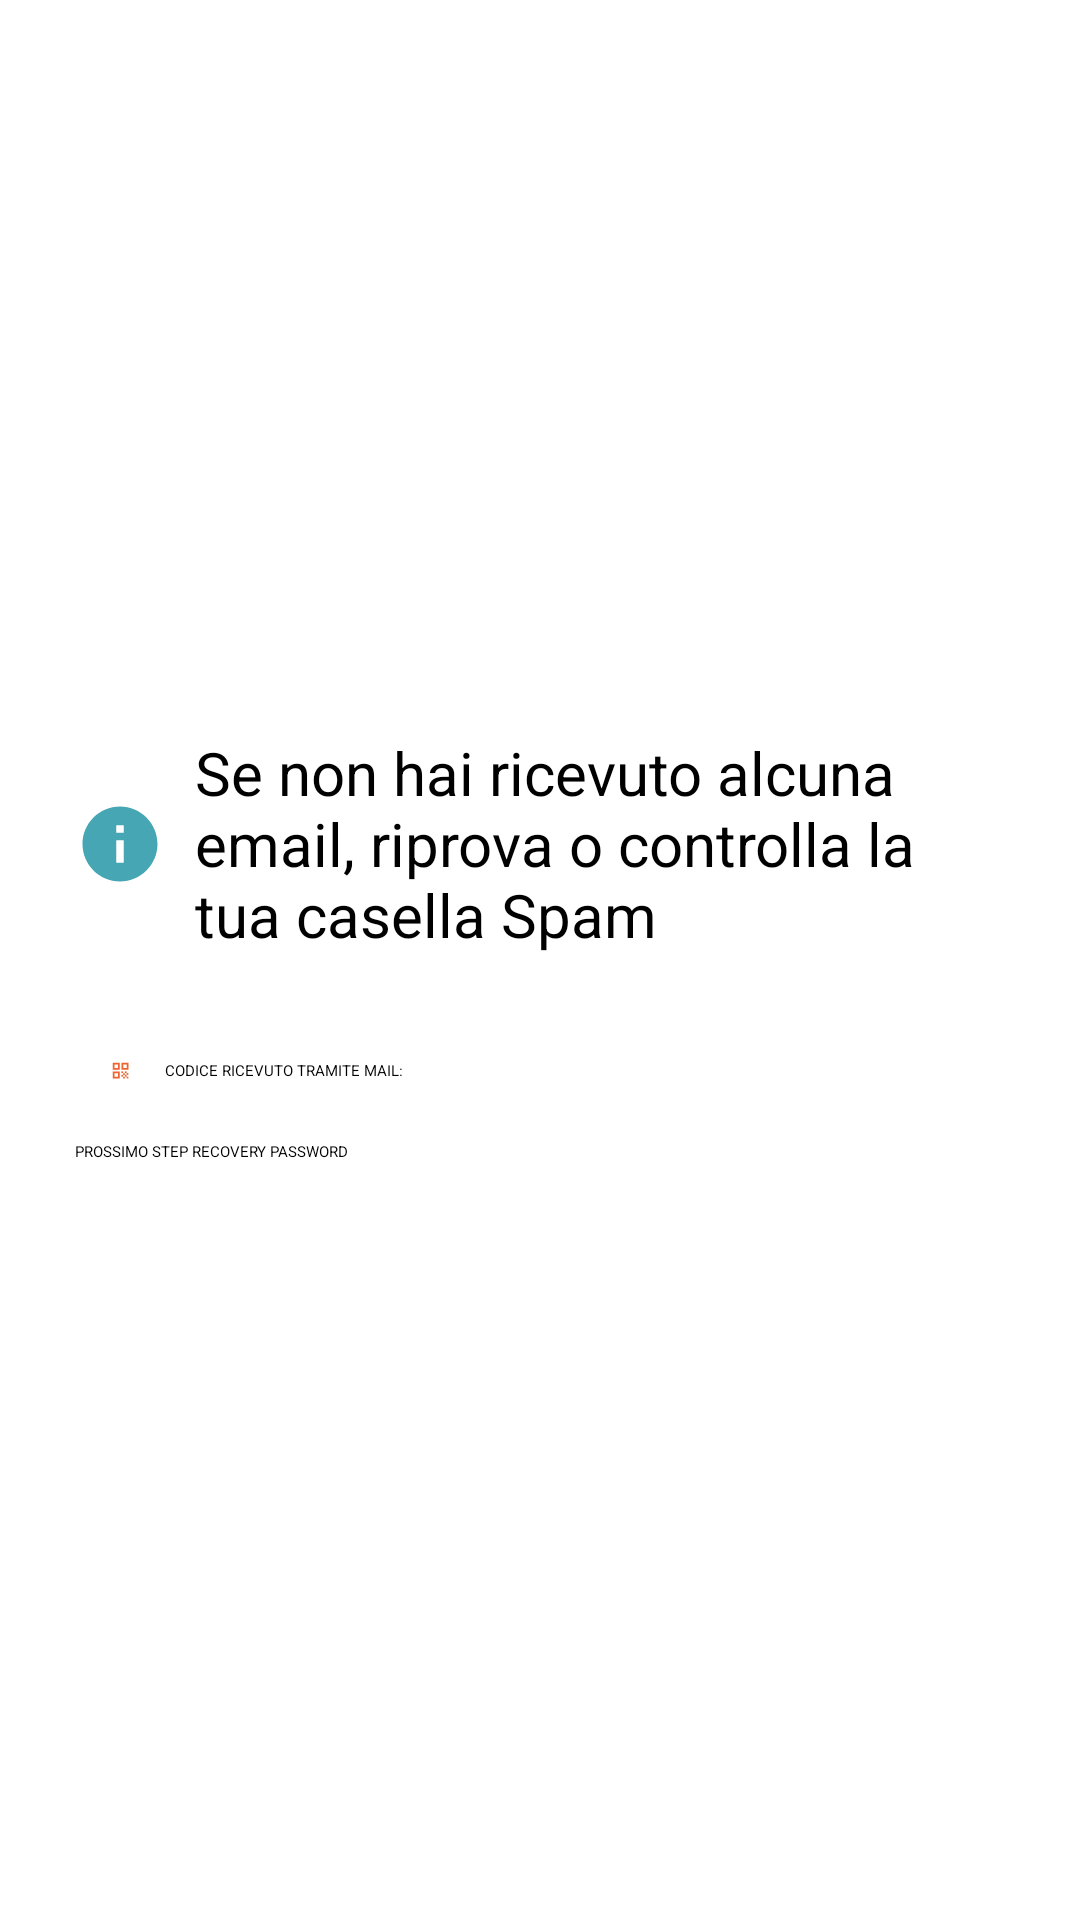

Named icons in this screenshot (1080px x 1920px) and their centers, (x,y):
info: (120,844)
